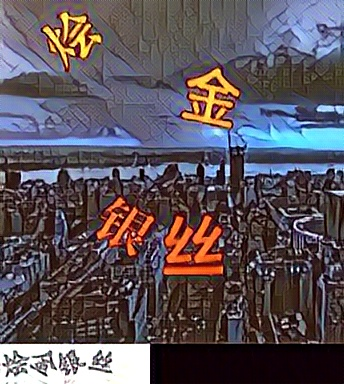BBE2: (38, 7, 105, 71)
BDF0: (174, 65, 241, 129)
CBBF: (161, 214, 228, 278)
D2F8: (91, 195, 158, 259)
